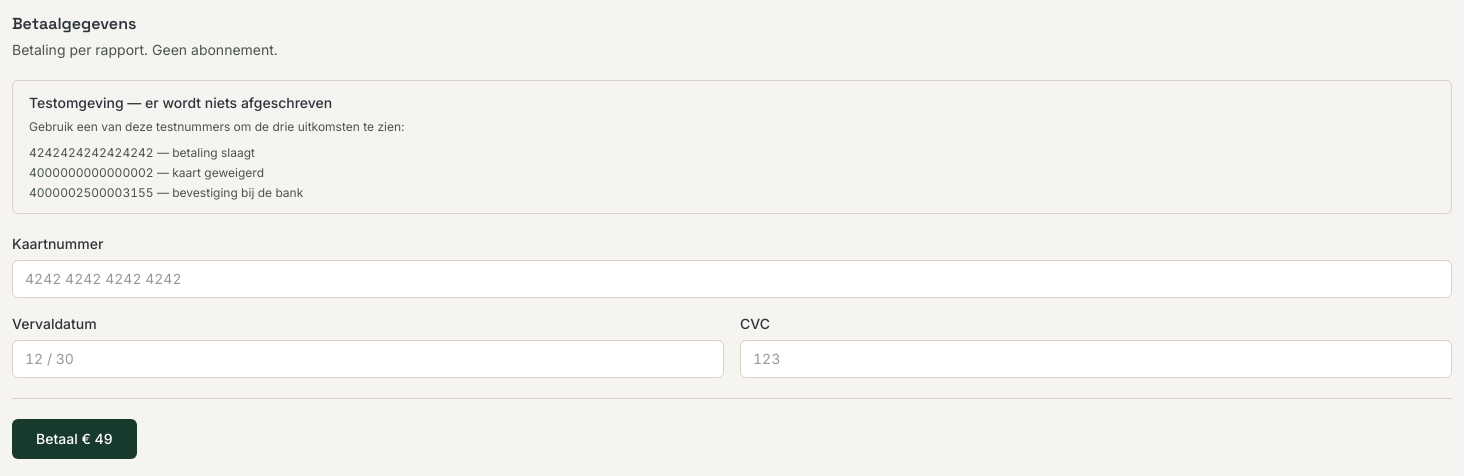
Test: PaymentForm - the 3-D Secure card, the path the pending-store exists for › asks for confirmation at the bank instead of resolving straight away
Type "4000002500003155" into the field labelled "Kaartnummer".
click(732, 278); type("4000002500003155")  # box [12,260,1452,298]
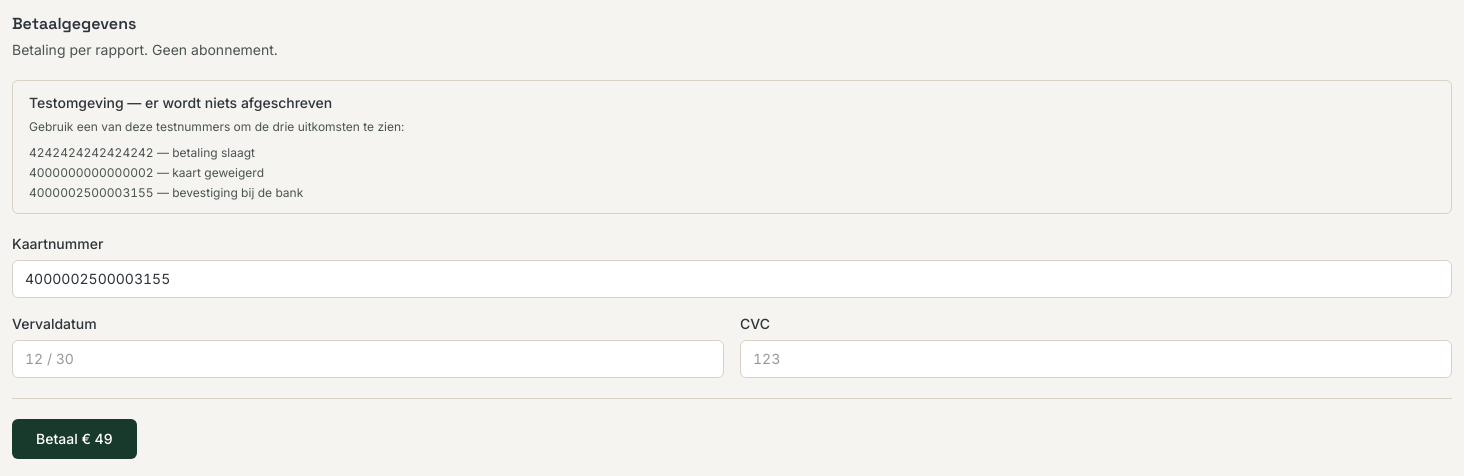
Click the button "Betaal € 49".
click(74, 438)  # box [12,418,137,458]
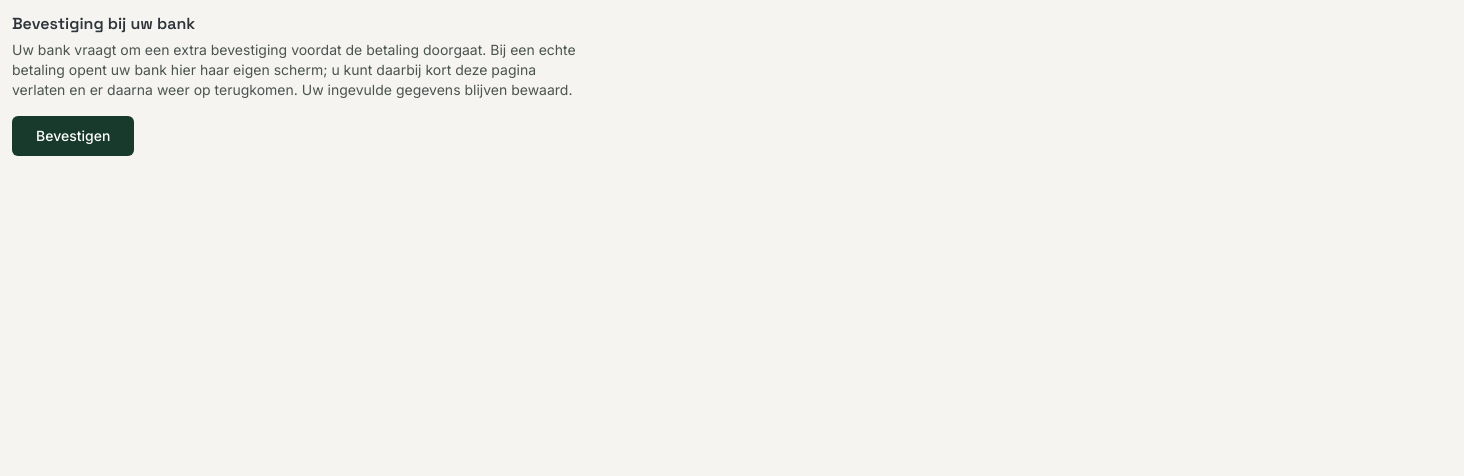
Expected: the heading "Bevestiging bij uw bank" is shown, [12,13,195,34]
Expected: the text "kort deze pagina verlaten" is shown, [12,41,576,98]
